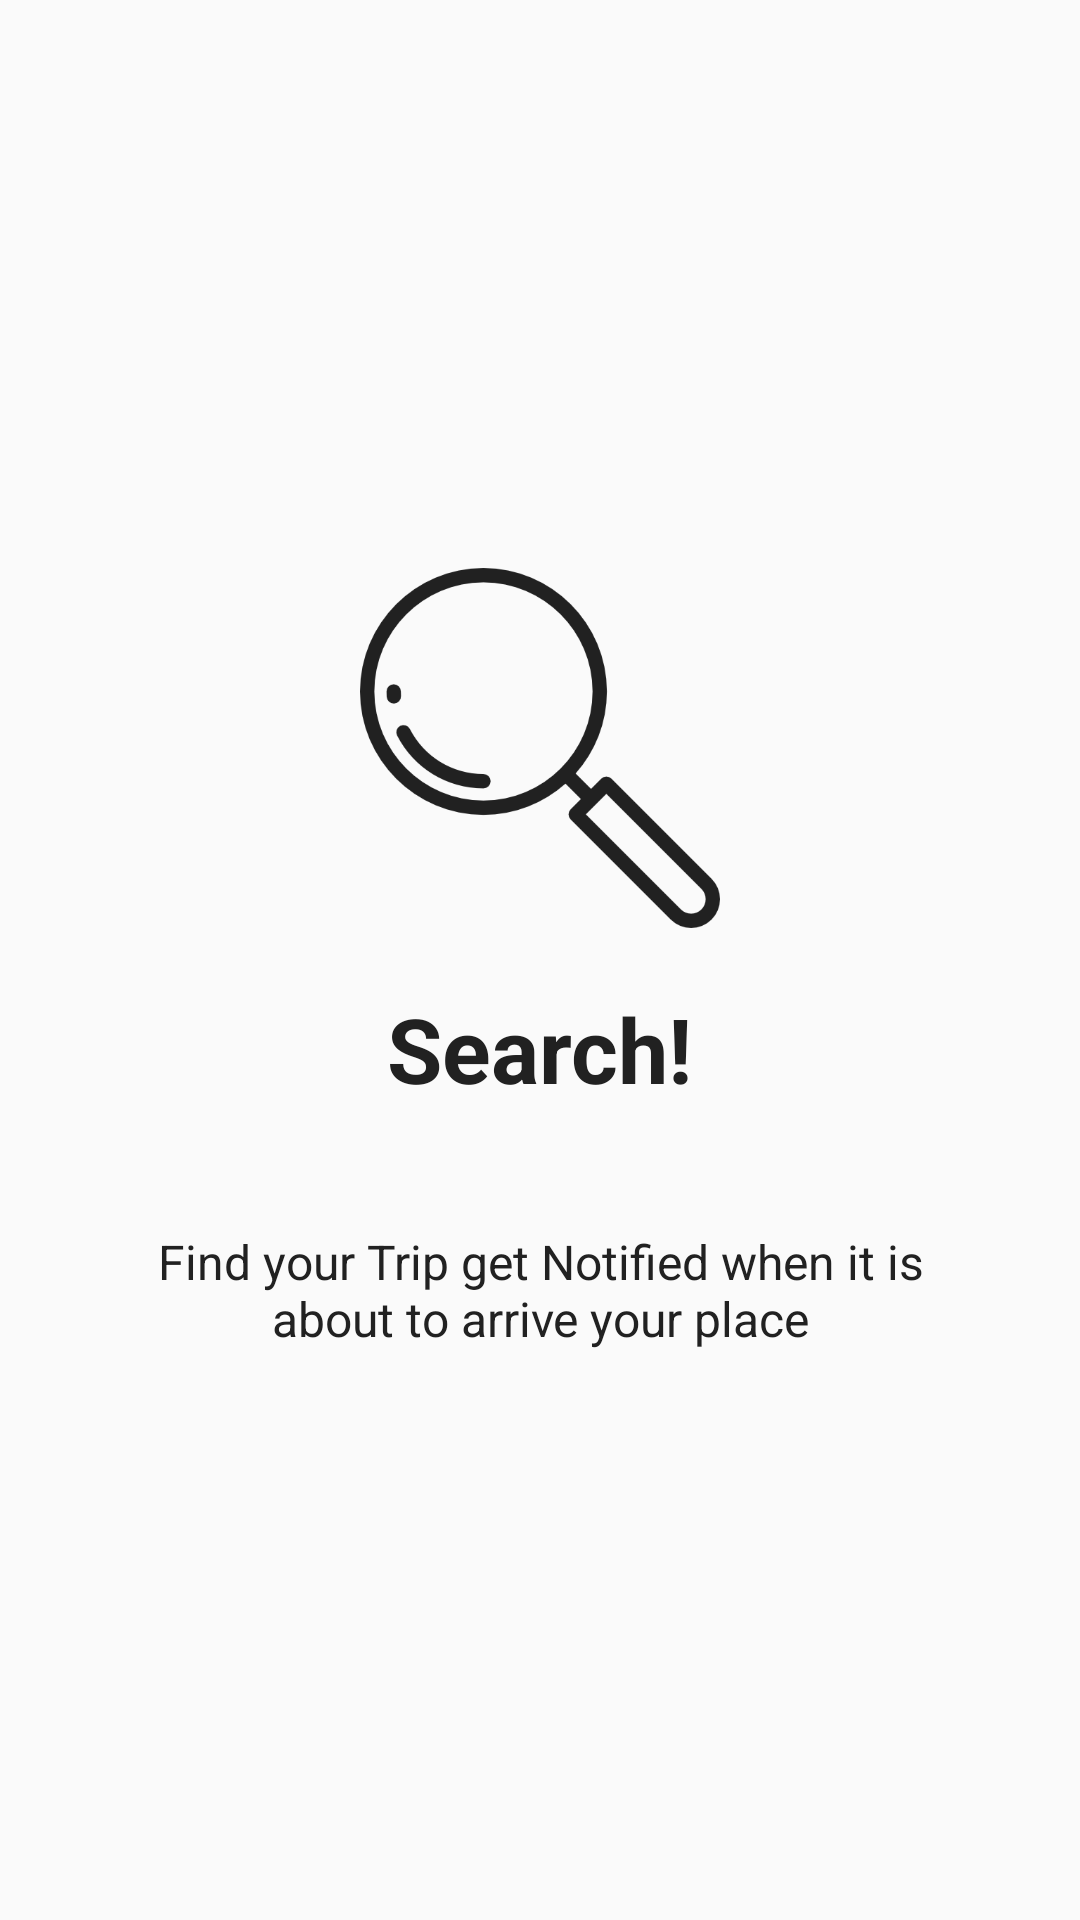

Icons on this 1080px×1920px Android screen, each with the point to tap as point (x, y):
loupe: point (540, 748)
